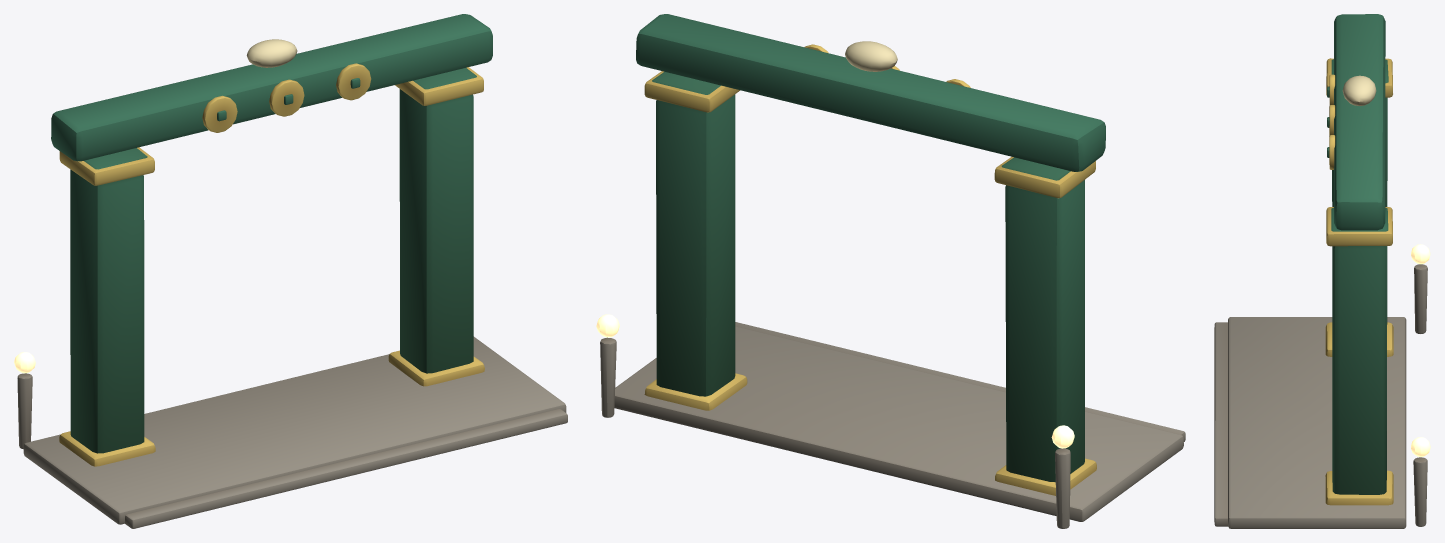
3 views of the same model, side by side, from view 1: azimuth 30°, elevation 25°; view 2: azimuth 150°, elevation 25°; view 3: azimuth 270°, elevation 25° (orthographic). The views are drawn at different scales.
Visible parts, largest first — view 1: gate_45295684; view 2: gate_45295684; view 3: gate_45295684.
Boxes of the visible parts, x1,y1,x2,y2 form: gate_45295684: (14, 14, 567, 528); gate_45295684: (596, 14, 1185, 528); gate_45295684: (1214, 14, 1430, 528).
Size of the model in its own units: 5.64 by 4.54 by 2.55.
